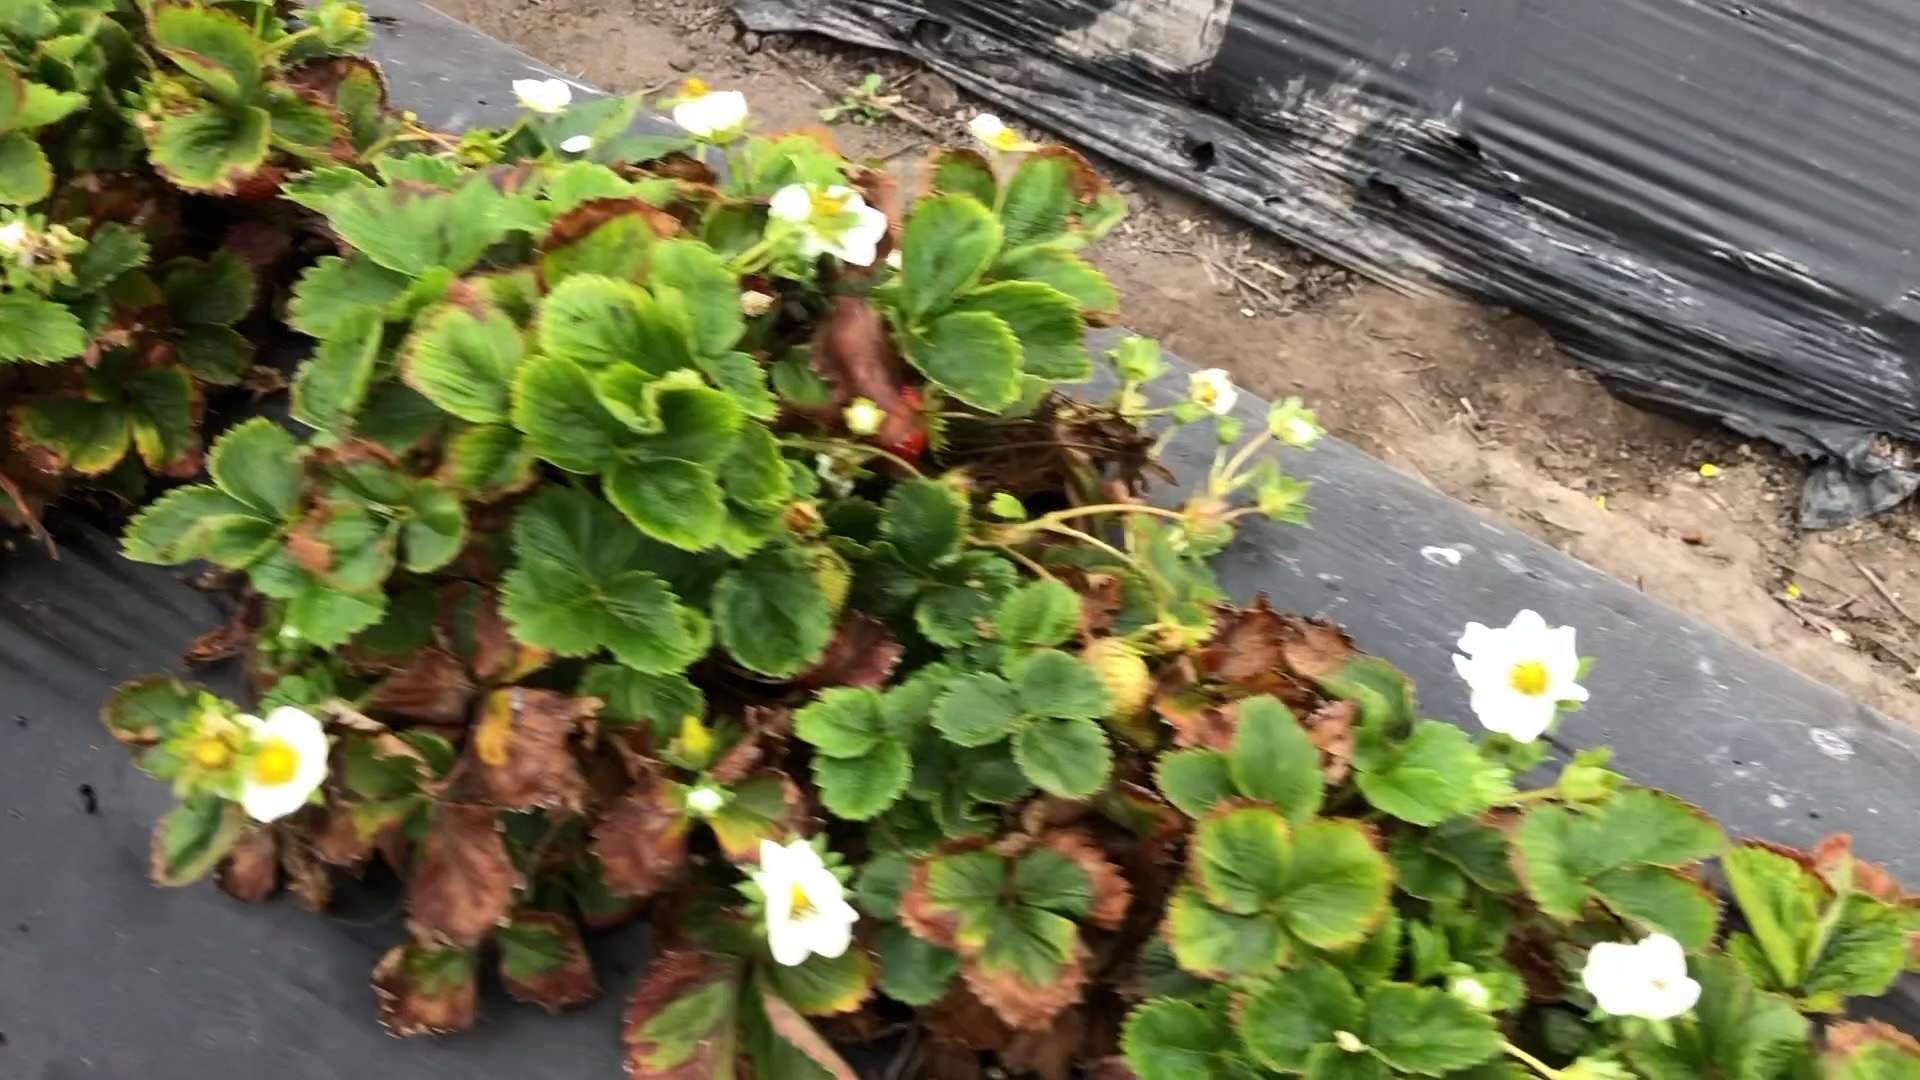unripe_strawberry: (1072, 632, 1158, 719)
